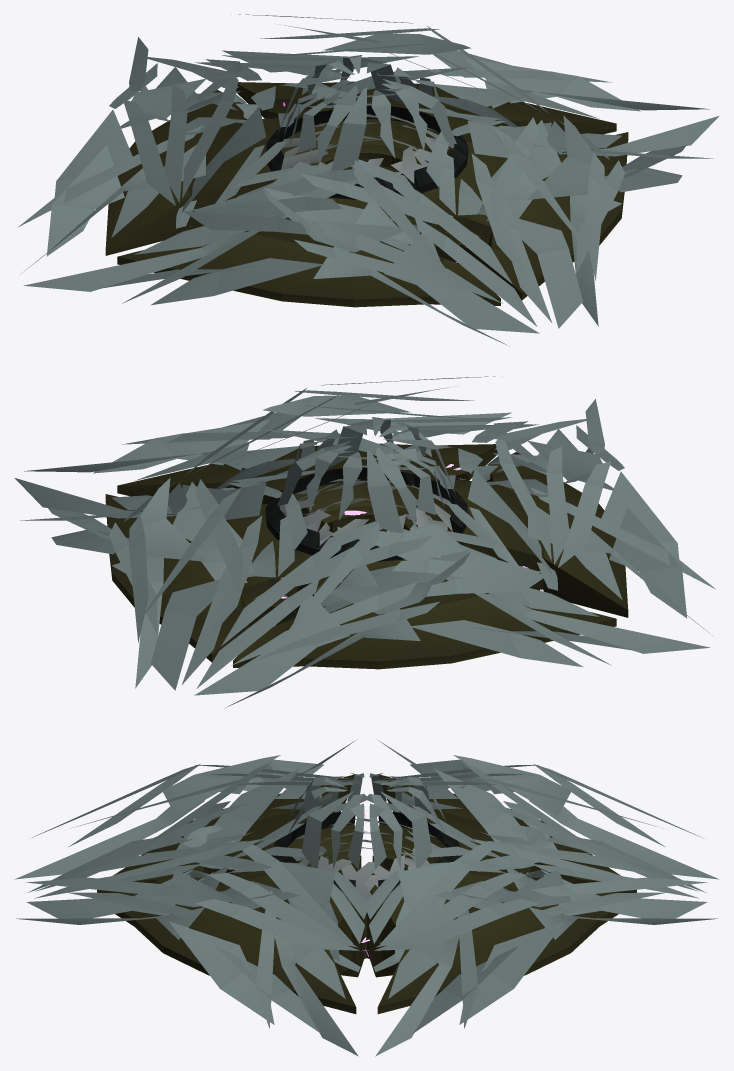
The model's file is EnemyCircular.fbx.
3 views of the same model, one above another, from view 1: azimuth 30°, elevation 25°; view 2: azimuth 150°, elevation 25°; view 3: azimuth 270°, elevation 25° (orthographic). The views are drawn at different scales.
Visible parts, largest first — view 1: Circle.006, Circle.001, Circle.005; view 2: Circle.006, Circle.001, Circle.005; view 3: Circle.006, Circle.001, Circle.005.
Boxes of the visible parts, box(x1,y1,x2,y2) form: Circle.006: box(18, 14, 718, 346); Circle.001: box(105, 81, 628, 307); Circle.005: box(281, 114, 454, 183); Circle.006: box(15, 376, 715, 708); Circle.001: box(105, 443, 628, 669); Circle.005: box(279, 477, 452, 545); Circle.006: box(14, 740, 719, 1056); Circle.001: box(97, 774, 636, 1013); Circle.005: box(292, 818, 441, 900).
Bounding box in the file's own units: 6.33 × 1.55 × 5.94.
